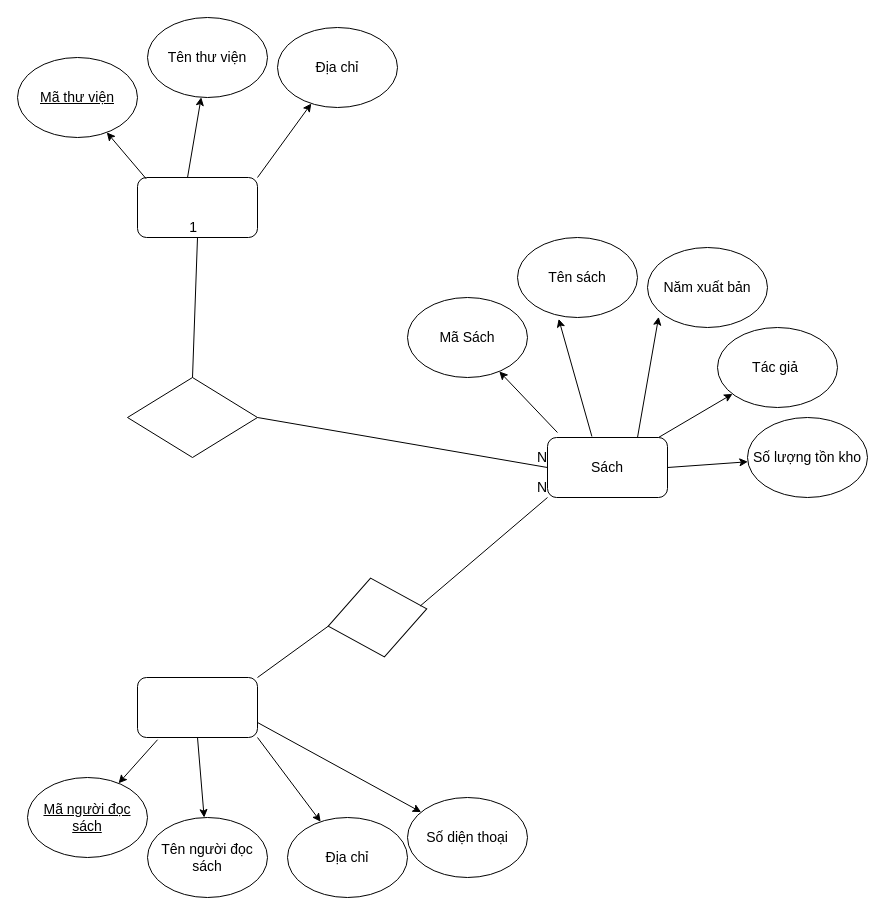
Some shapes in this 885 by 915 pixel diagram are drawn without their labels. Here are the shapes that lost their labels. From the top down, the centre of each, then its label:
At (197,207): "Thư viện".
At (192,417): "Chứa".
At (377,617): "Đọc".
At (197,707): "Người đọc sách".
